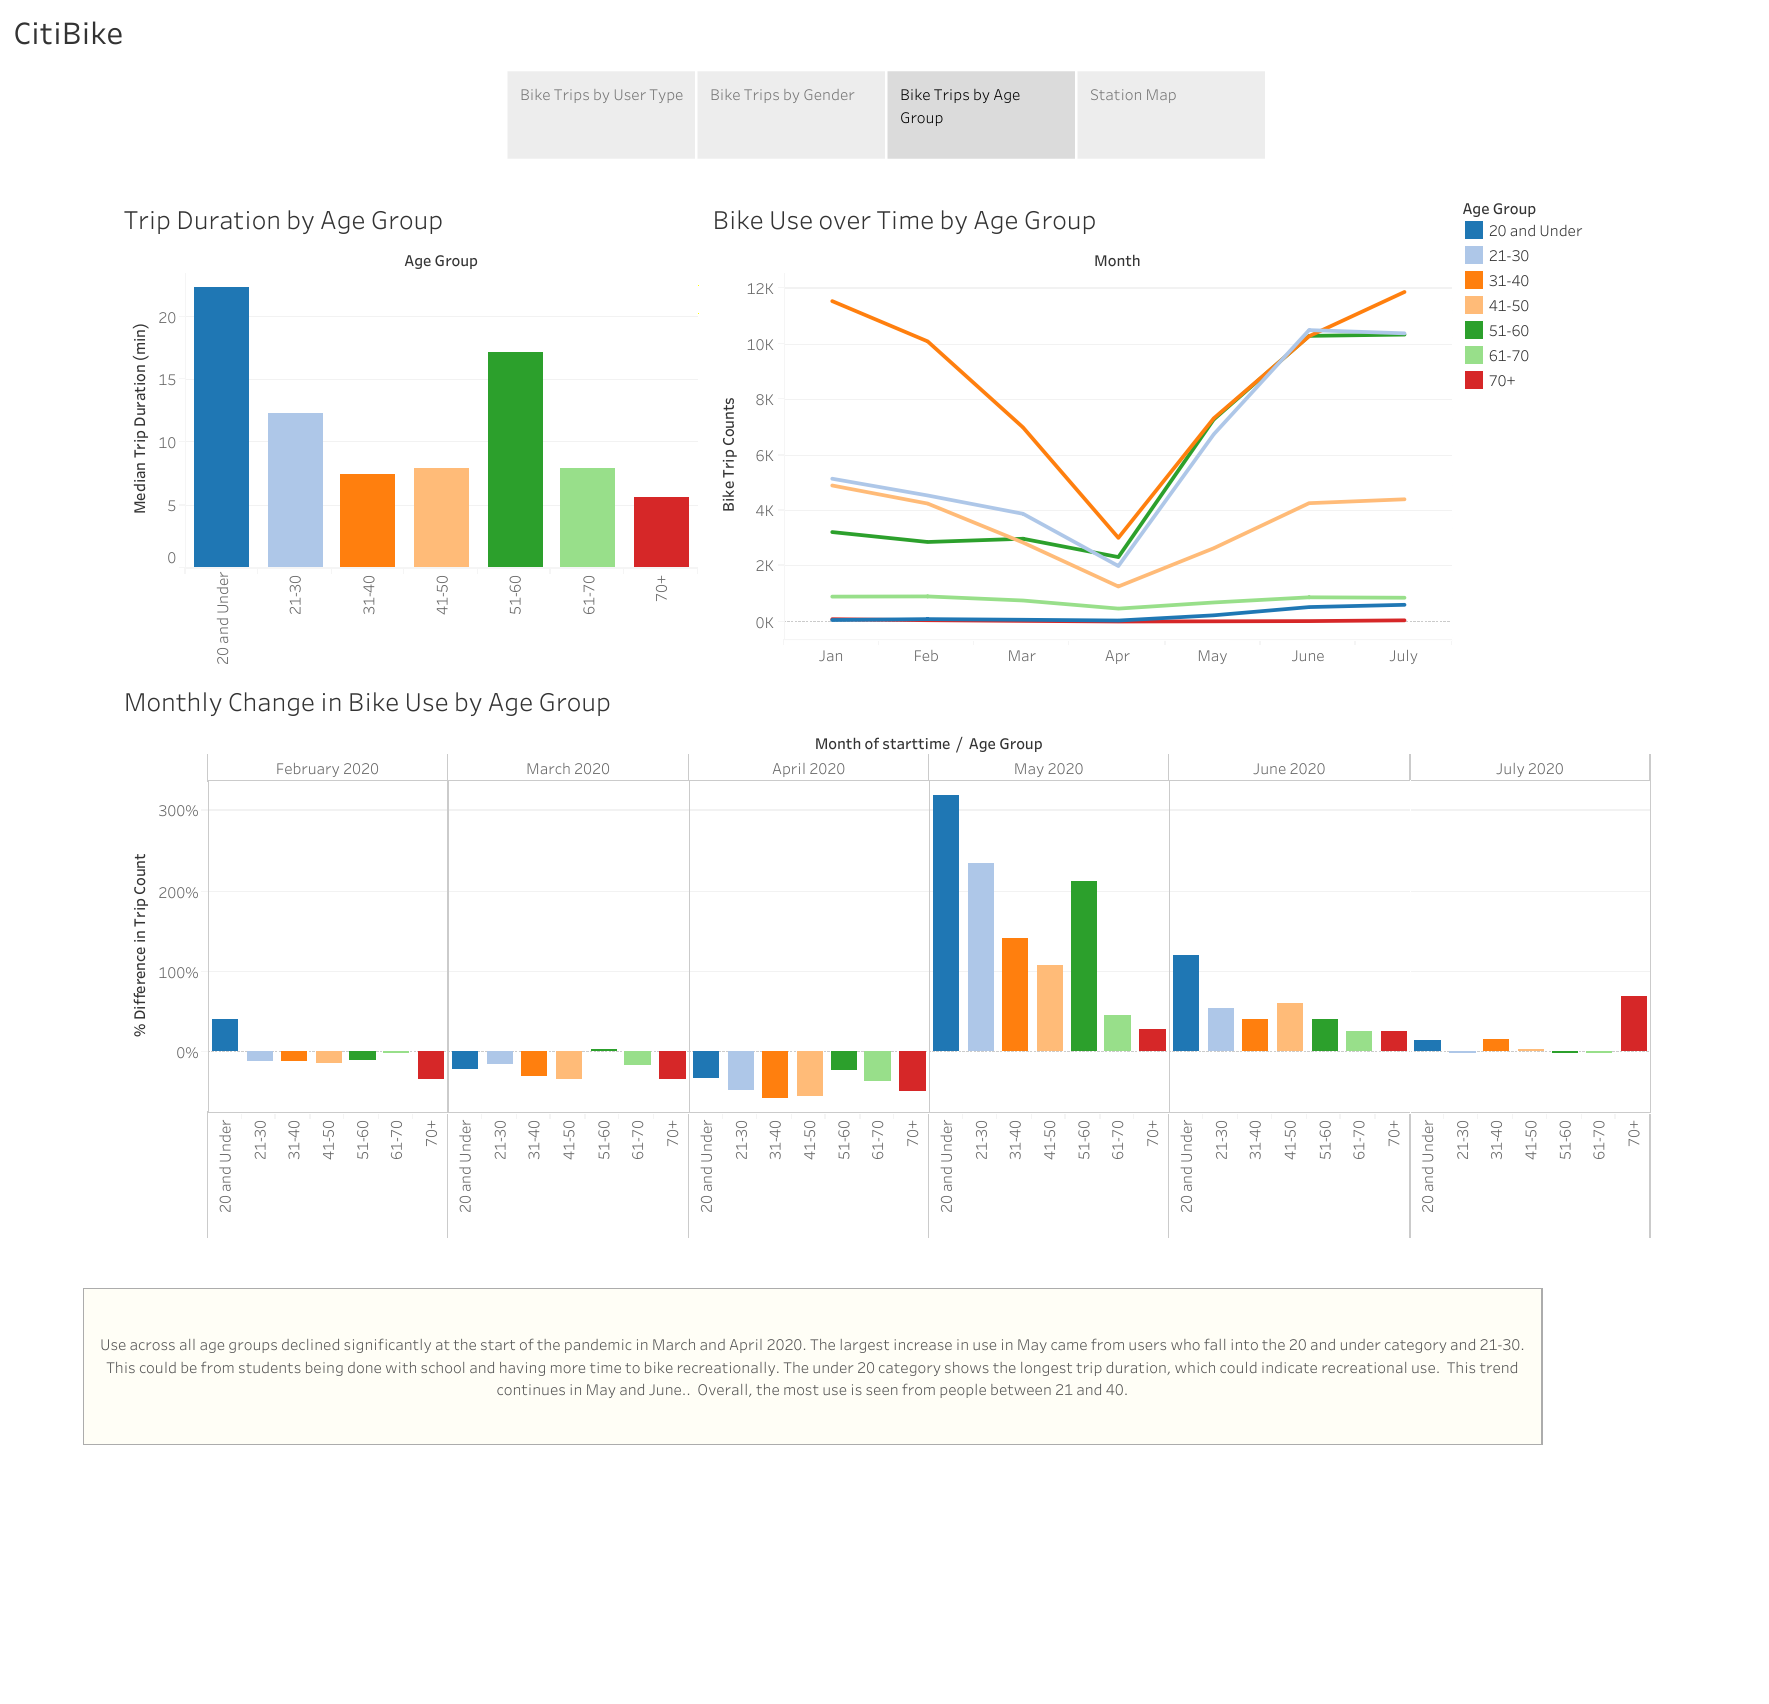

The dashboard page shown, as its layout file describes it:
{"tool":"tableau","page":{"name":"AgeDashboard","canvas":[1000,1000],"units":"permille","ordinal":0},"visuals":[{"type":"worksheet","box":[0,0,1000,1000]},{"type":"worksheet","title":"Trip Duration by Age Group","mark":"Automatic","rows":["Calculation_424745753983160322"],"box":[6.4,9.3,376.8,448.8]},{"type":"worksheet","param":"horz","box":[383.2,9.3,610.4,448.8]},{"type":"worksheet","box":[383.2,9.3,482.4,448.8]},{"type":"worksheet","title":"Bike Use over Time by Age Group","mark":"Line","rows":["bikeid"],"cols":["Calculation_424745753971064832"],"box":[383.2,9.3,482.4,448.8]},{"type":"worksheet","param":"vert","box":[865.6,9.3,128,448.8]},{"type":"worksheet","title":"Bike Use over Time by Age Group","mark":"Line","rows":["bikeid"],"cols":["Calculation_424745753971064832"],"param":"[federated.0xu3c9u0codd0c19rlvsa1oefhhu].[Age Group]","box":[865.6,9.3,128,205.8]},{"type":"worksheet","title":"Monthly Change in Bike Use by Age Group","mark":"Bar","cols":["starttime"],"box":[6.4,458.1,987.2,532.6]}]}

Visuals, with their boxes on the dashboard's canvas, which has no fixed pixel size, in thousandths of its width and height (x1, y1, x2, y2). These are canvas units, not pixel positions in the 1769x1704 screenshot, which may show the page scaled, cropped or inside an application window:
worksheet: locate(0, 0, 1000, 1000)
"Trip Duration by Age Group" worksheet: locate(6, 9, 383, 458)
worksheet: locate(383, 9, 994, 458)
worksheet: locate(383, 9, 866, 458)
"Bike Use over Time by Age Group" worksheet (Line marks): locate(383, 9, 866, 458)
worksheet: locate(866, 9, 994, 458)
"Bike Use over Time by Age Group" worksheet (Line marks): locate(866, 9, 994, 215)
"Monthly Change in Bike Use by Age Group" worksheet (Bar marks): locate(6, 458, 994, 991)
